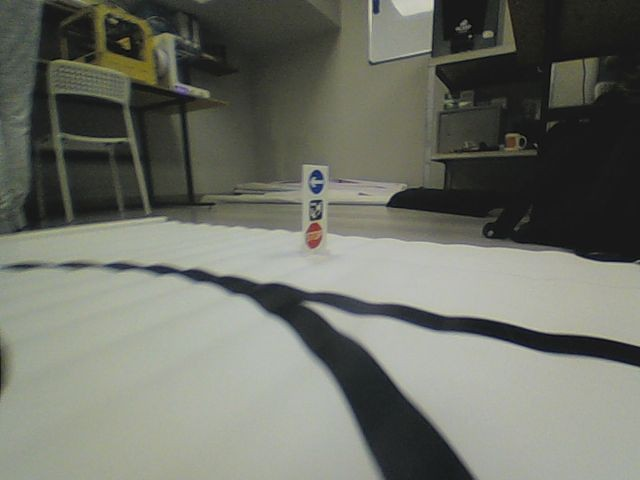Stop: (304, 221, 322, 250)
